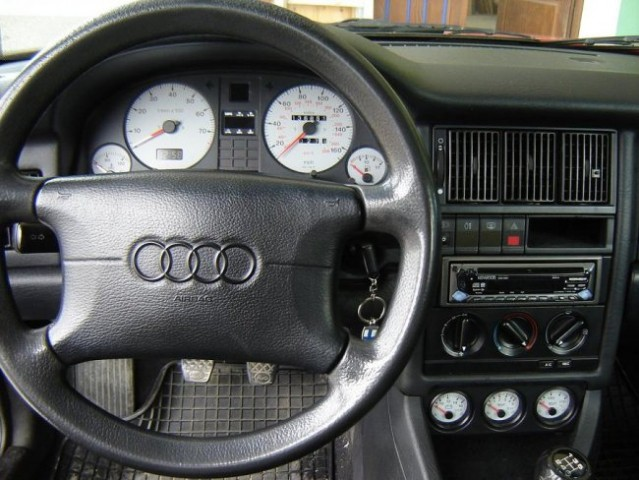audi: (118, 230, 269, 291)
